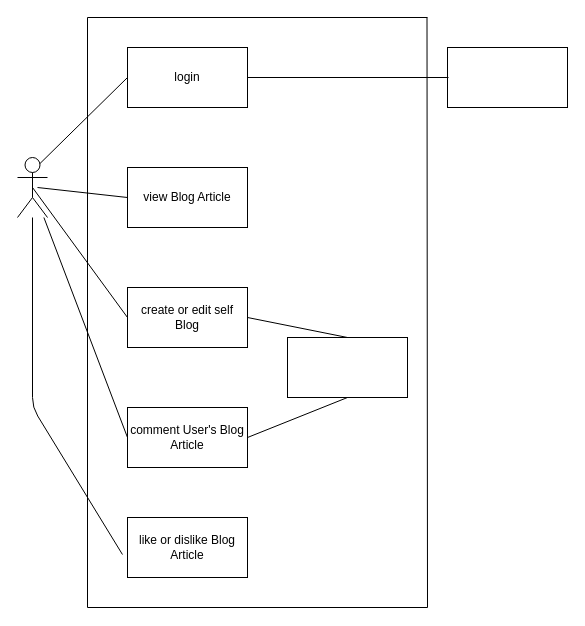
The diagram is 585 pixels wide and 626 high, and some of its shapes have lost their labels. The shapes that lost their labels are listed below. From the top down, each one's centre as x and y in pixels, then its label:
At [507,77]: "loginDatabase".
At [32,187]: "User".
At [347,367]: "blacklistFilter".
